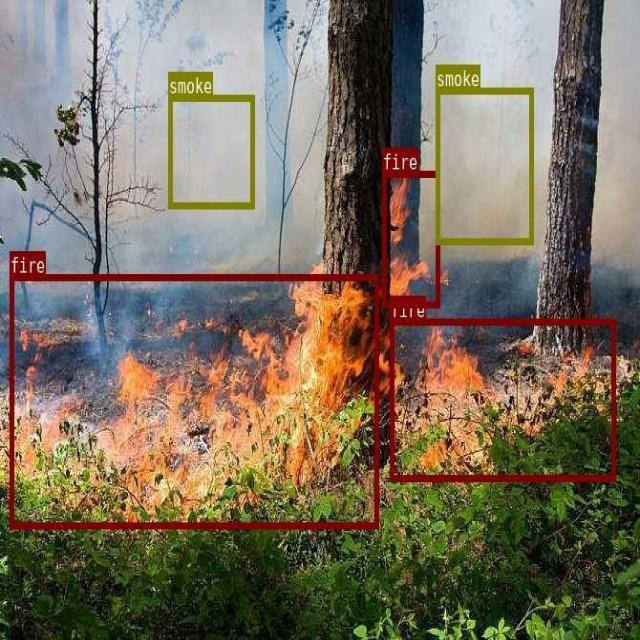fire: (9, 274, 378, 527), (390, 318, 614, 480), (382, 171, 439, 306)
smoke: (435, 87, 533, 243), (167, 94, 254, 208)
